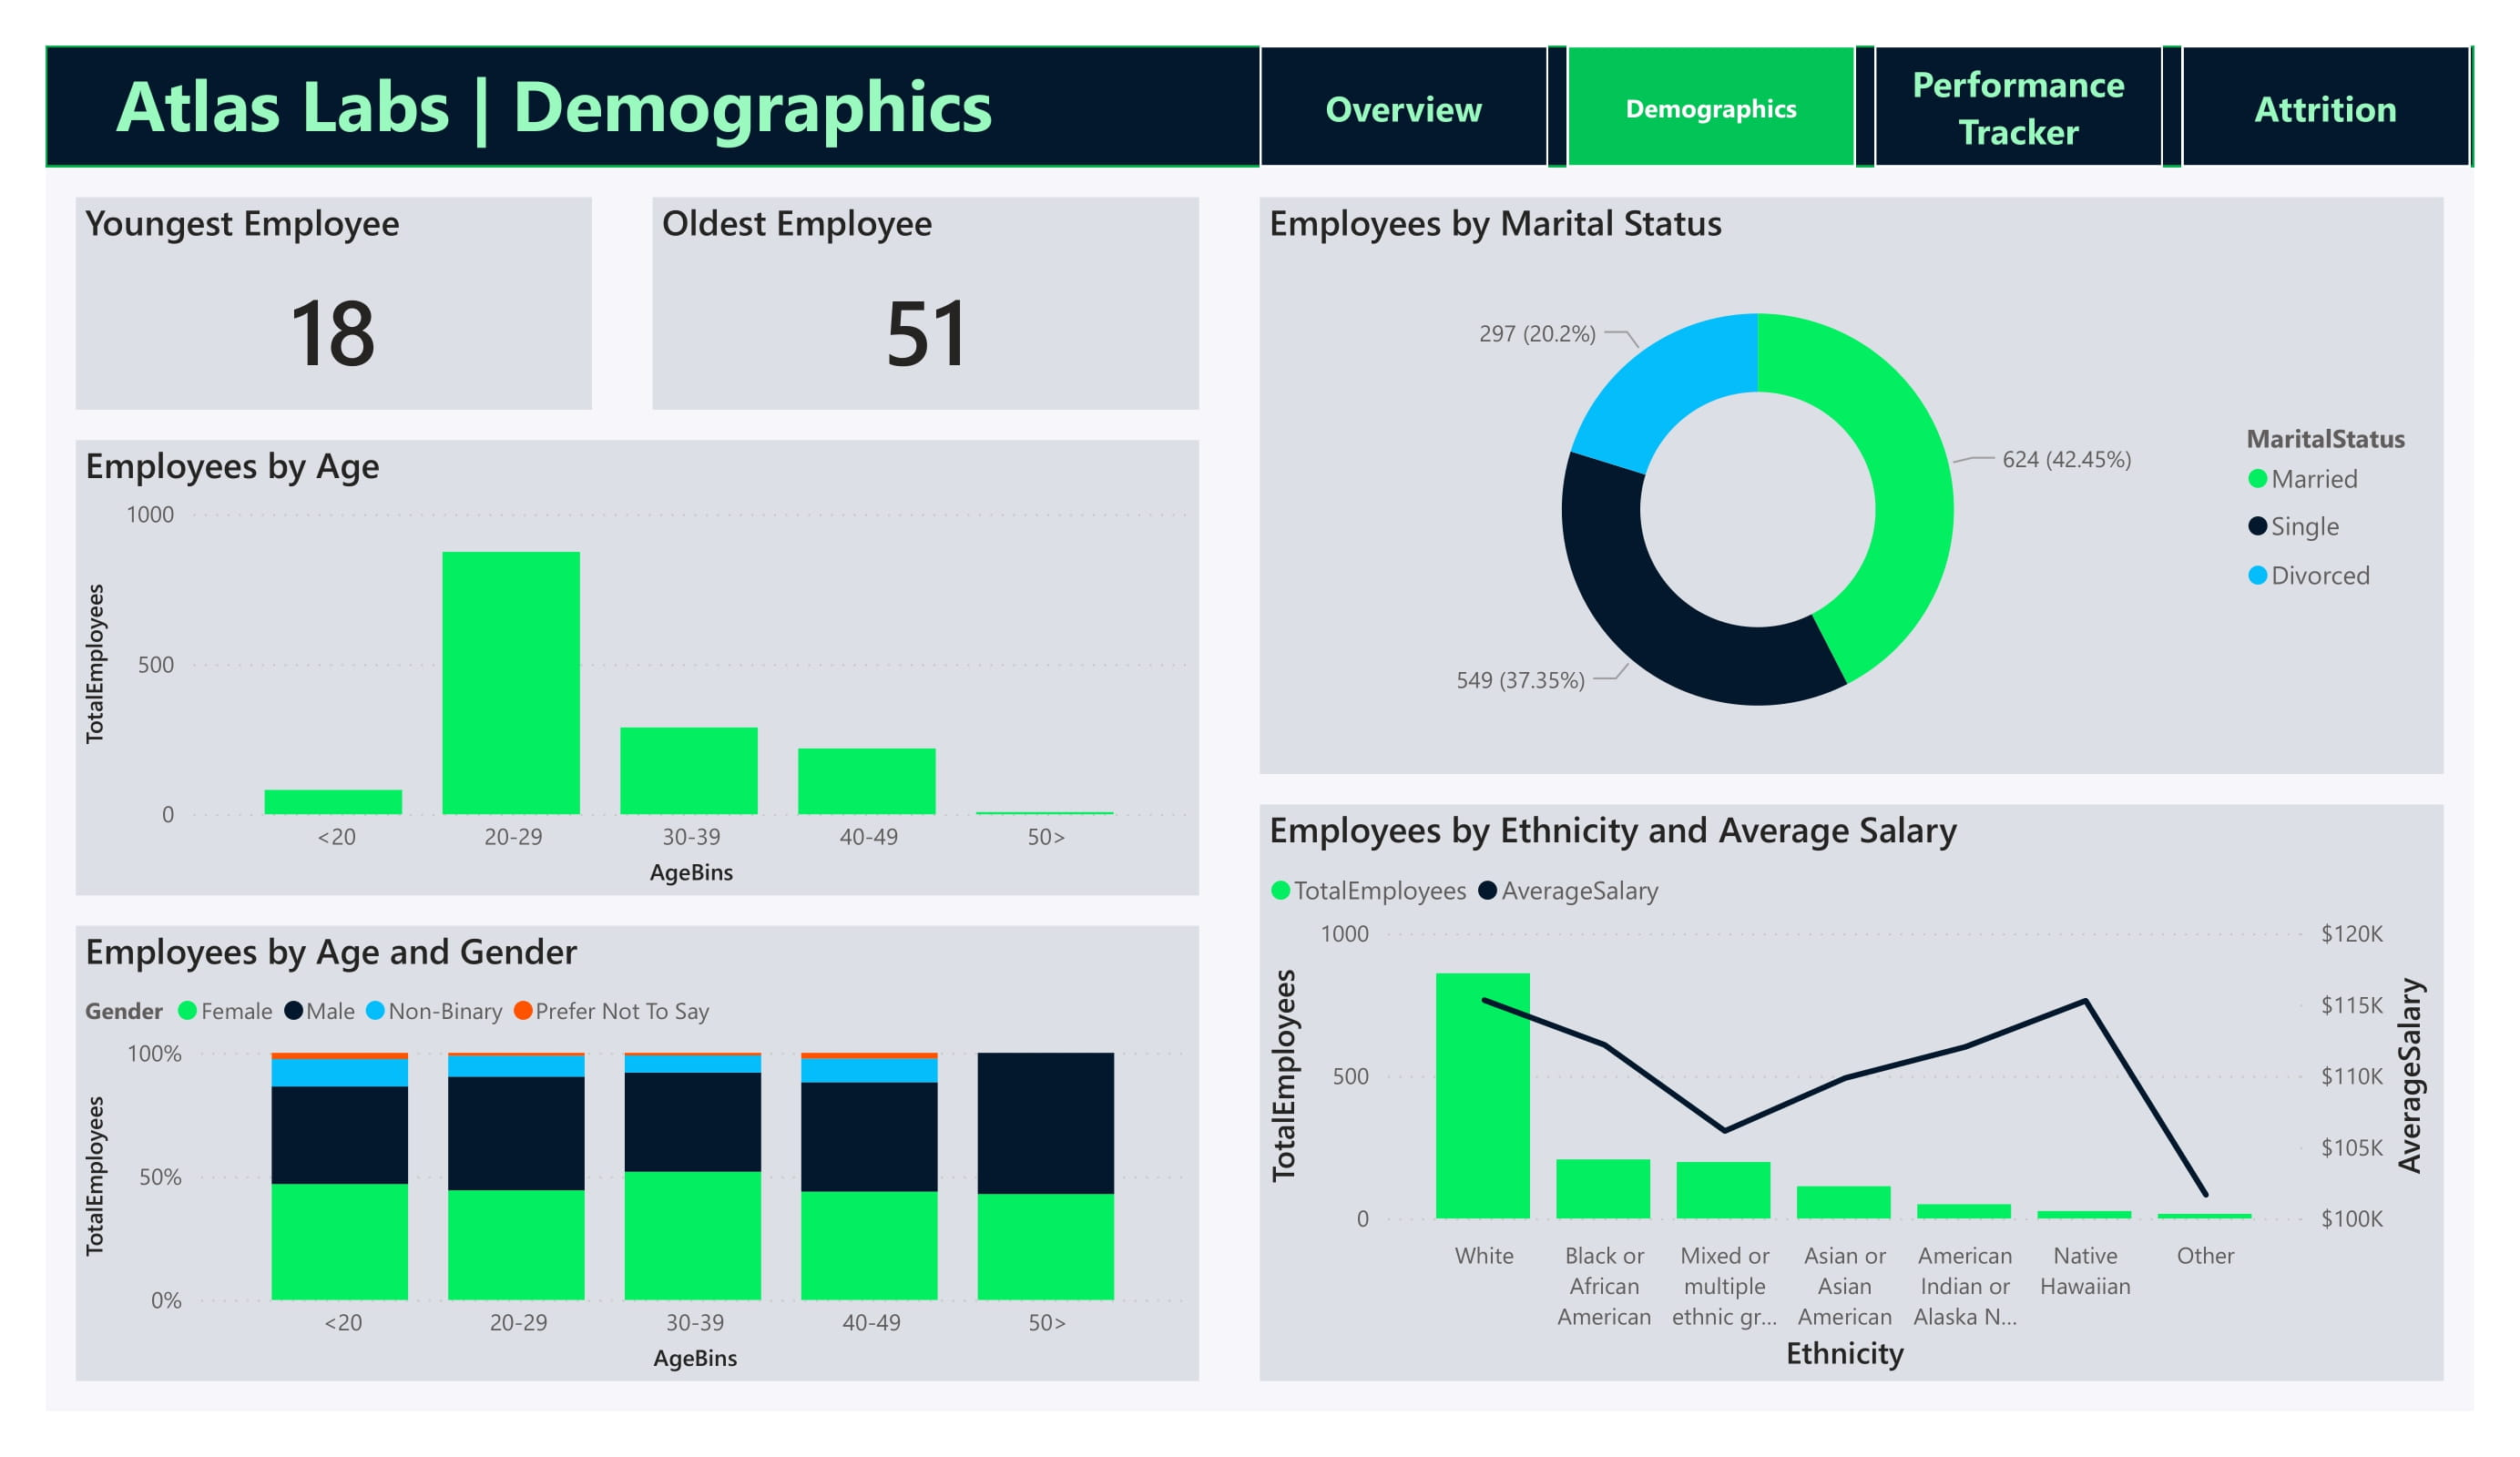

What the dashboard file says about the page in this screenshot:
{"tool":"powerbi","page":{"name":"Demographics","canvas":[1280,720],"ordinal":1},"visuals":[{"type":"card","title":"Youngest Employee","fields":{"Values":["Sum(DimEmployee.Age)"]},"box":[16,80,272,112],"z":0},{"type":"card","title":"Oldest Employee","fields":{"Values":["Sum(DimEmployee.Age)"]},"box":[320,80,288,112],"z":1000},{"type":"columnChart","title":"Employees by Age","fields":{"Category":["DimEmployee.AgeBins"],"Y":["_Measures.TotalEmployees"]},"box":[16,208,592,240],"z":2000},{"type":"hundredPercentStackedColumnChart","title":"Employees by Age and Gender","fields":{"Category":["DimEmployee.AgeBins"],"Series":["DimEmployee.Gender"],"Y":["_Measures.TotalEmployees"]},"box":[16,464,592,240],"z":3000},{"type":"donutChart","title":"Employees by Marital Status","fields":{"Category":["DimEmployee.MaritalStatus"],"Y":["_Measures.TotalEmployees"]},"box":[640,80,624,304],"z":4000},{"type":"lineStackedColumnComboChart","title":"Employees by Ethnicity and Average Salary","fields":{"Category":["DimEmployee.Ethnicity"],"Y":["_Measures.TotalEmployees"],"Y2":["_Measures.AverageSalary"]},"box":[640,400,624,304],"z":5000},{"type":"shape","box":[0,0,1280,64],"z":6000},{"type":"textbox","box":[32,0,624,64],"z":7000},{"type":"pageNavigator","box":[640,0,640,64],"z":8000}]}

Visuals, with their boxes on the page's 1280x720 design canvas (x1, y1, x2, y2). These are canvas units, not pixel positions in the 2520x1457 screenshot, which may show the page scaled, cropped or inside an application window:
"Youngest Employee" card: bbox=[16, 80, 288, 192]
"Oldest Employee" card: bbox=[320, 80, 608, 192]
"Employees by Age" columnChart: bbox=[16, 208, 608, 448]
"Employees by Age and Gender" hundredPercentStackedColumnChart: bbox=[16, 464, 608, 704]
"Employees by Marital Status" donutChart: bbox=[640, 80, 1264, 384]
"Employees by Ethnicity and Average Salary" lineStackedColumnComboChart: bbox=[640, 400, 1264, 704]
shape: bbox=[0, 0, 1280, 64]
textbox: bbox=[32, 0, 656, 64]
pageNavigator: bbox=[640, 0, 1280, 64]
